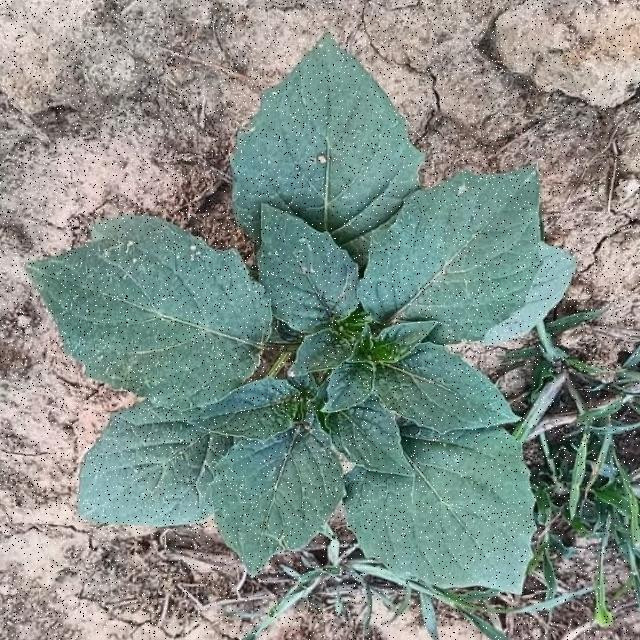weed: (27, 35, 576, 595)
